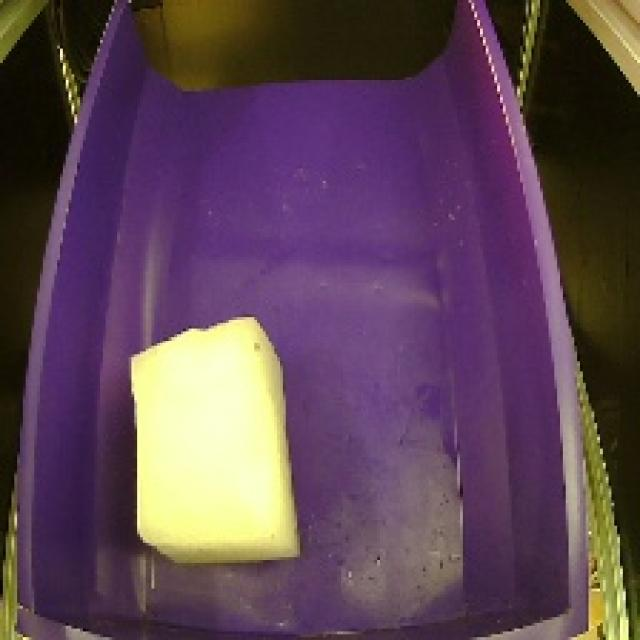white_radish: (106, 304, 330, 579)
